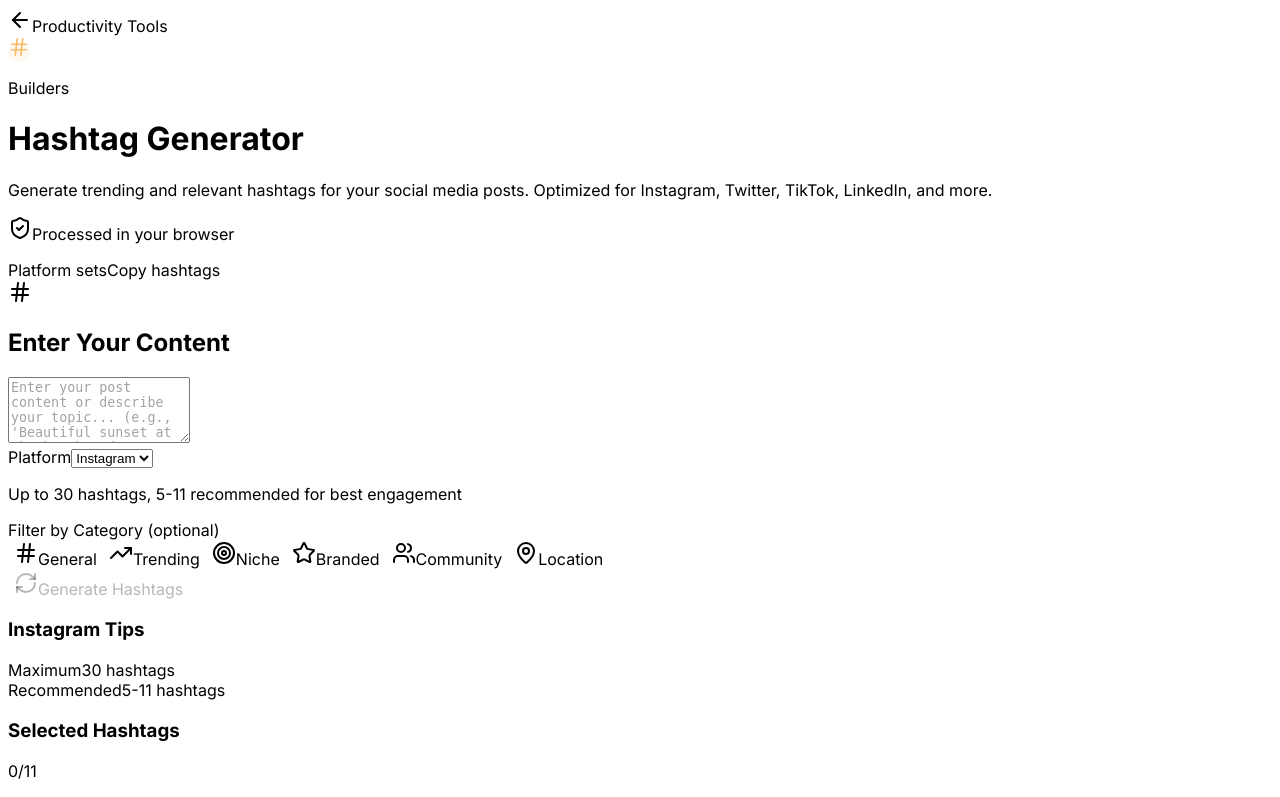
Scenario: HashtagGeneratorPage › Platform Selection › shows YouTube platform config correctly
Step 1. Select "YouTube" in the dropdown → (112, 458), box [71, 449, 153, 468]
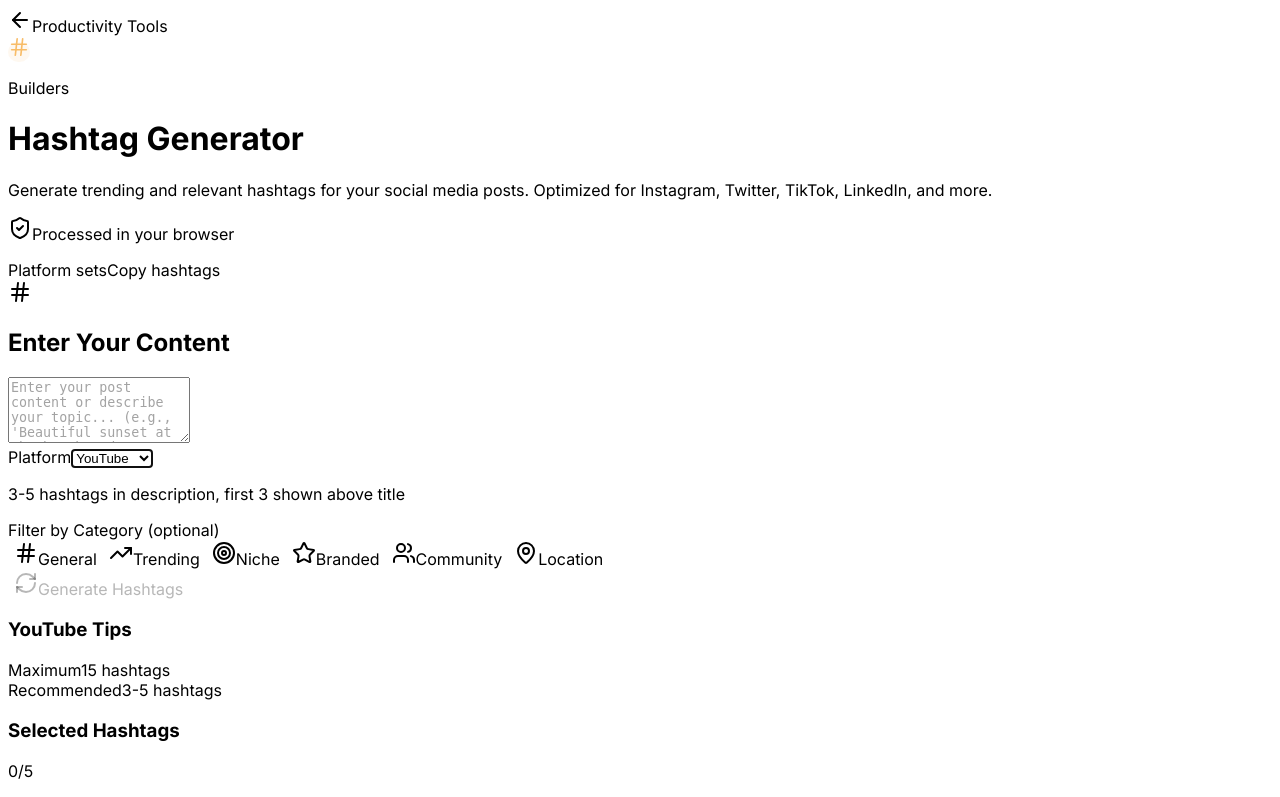
expect the heading "YouTube Tips" is shown: met, box [8, 618, 132, 641]
expect the text "15 hashtags" is shown: met, box [81, 660, 170, 680]
expect the text "3-5 hashtags" is shown: met, box [122, 680, 222, 700]
